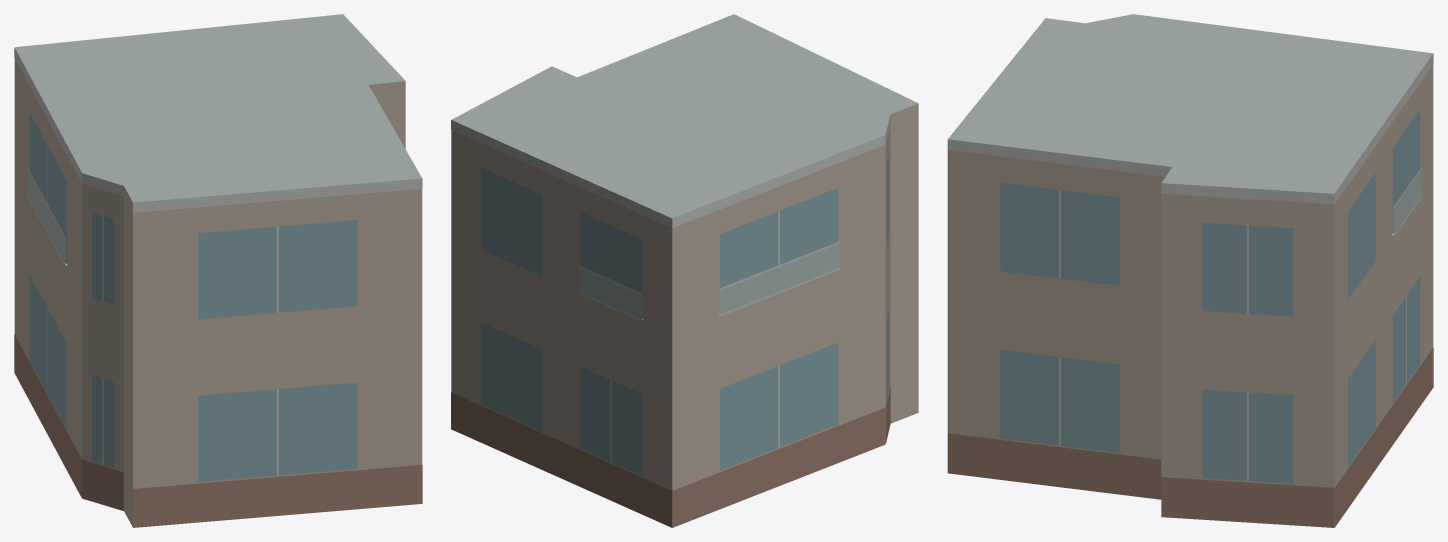
File: survey-upis-32511022.glb
3 views of the same model, side by side, from view 1: azimuth 30°, elevation 25°; view 2: azimuth 150°, elevation 25°; view 3: azimuth 270°, elevation 25° (orthographic). The views are drawn at different scales.
Visible parts, largest first — view 1: survey-upis-32511022.tmp; view 2: survey-upis-32511022.tmp; view 3: survey-upis-32511022.tmp.
Boxes of the visible parts, <box> form: survey-upis-32511022.tmp: <box>14,14,422,527</box>; survey-upis-32511022.tmp: <box>451,14,918,527</box>; survey-upis-32511022.tmp: <box>947,14,1433,527</box>.
Bounding box in the file's own units: 8.9 × 7.7 × 10.16.
